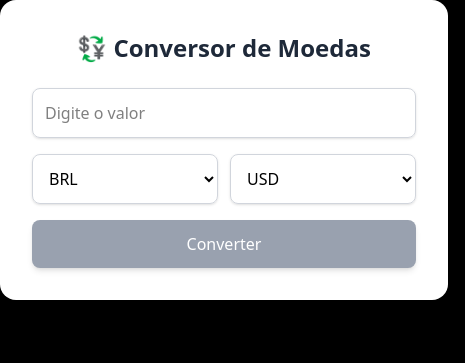
Test: CurrencyConverter - Simplified Tests › Button States › should disable button when loading
In the field with placeholder "Digite o valor": (224, 113) 32,88 -> 416,138, type "100"
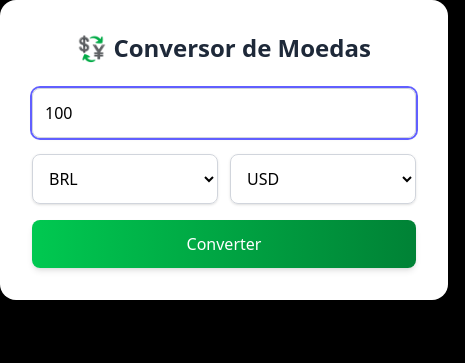
Click the button "Converter": (224, 244) 32,220 -> 416,268
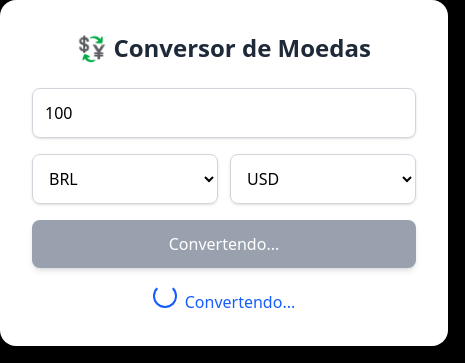
Now the button "Convertendo..." is disabled, box 32,220 -> 416,268
